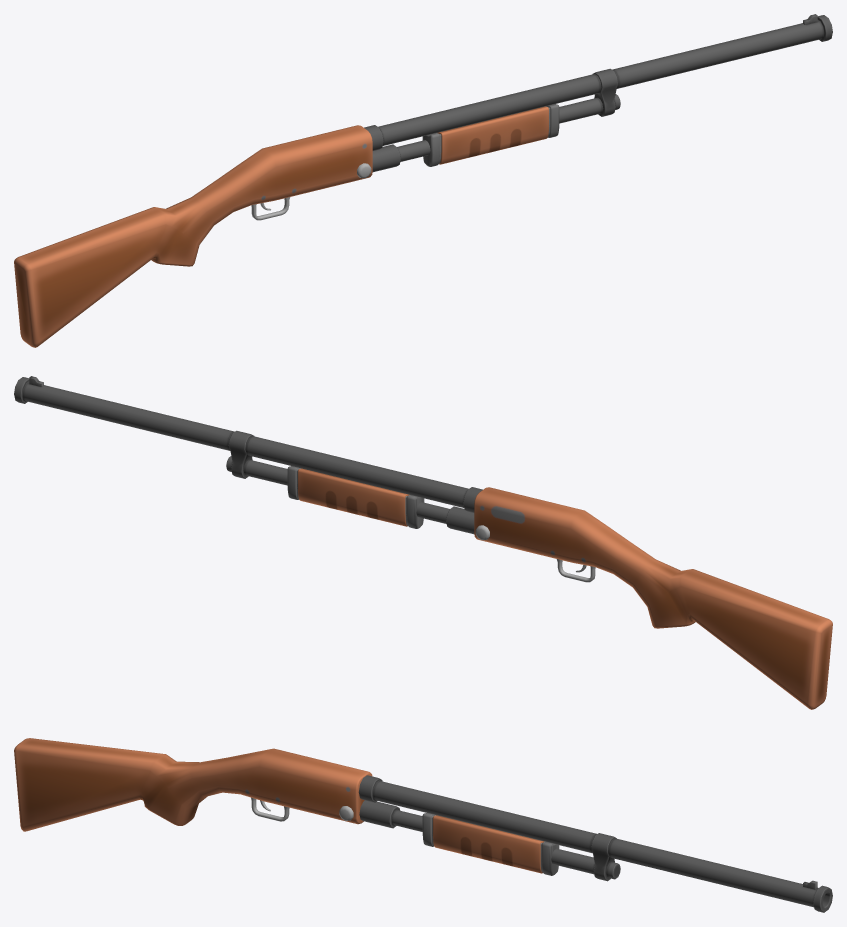
Rendered from Stylized Shotgun.fbx.
3 renders of one model, top to bottom at view 1: azimuth 30°, elevation 25°; view 2: azimuth 150°, elevation 25°; view 3: azimuth 330°, elevation 25°, orthographic.
Visible parts, largest first — view 1: Handle, Barrel, Forestock; view 2: Handle, Barrel, Forestock; view 3: Handle, Barrel, Forestock.
Boxes of the visible parts, x1,y1,x2,y2 form: Handle: (14,125,372,347); Barrel: (357,14,832,178); Forestock: (422,104,559,166); Handle: (474,487,832,709); Barrel: (14,376,489,540); Forestock: (287,466,424,528); Handle: (14,738,372,831); Barrel: (339,775,832,912); Forestock: (422,813,559,875).
Bounding box in the file's own units: 199 × 32.43 × 8.87.
